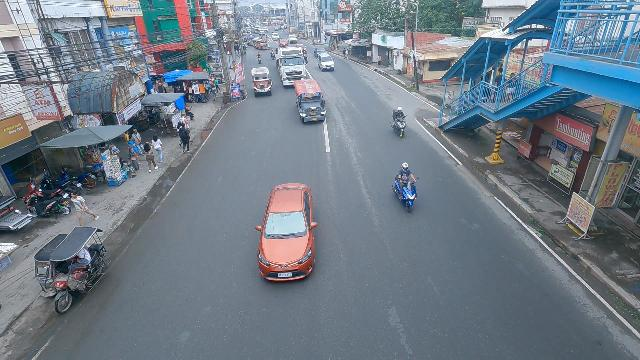car: (257, 180, 320, 283), (316, 54, 335, 73), (313, 48, 327, 59), (279, 38, 288, 47), (271, 33, 279, 40)
jeepney: (293, 79, 327, 125), (250, 66, 274, 98), (255, 39, 270, 50)
motorcycle: (390, 162, 420, 216), (390, 107, 407, 138), (303, 48, 308, 65), (256, 52, 262, 65), (270, 49, 276, 60)
truck: (276, 46, 308, 87)
